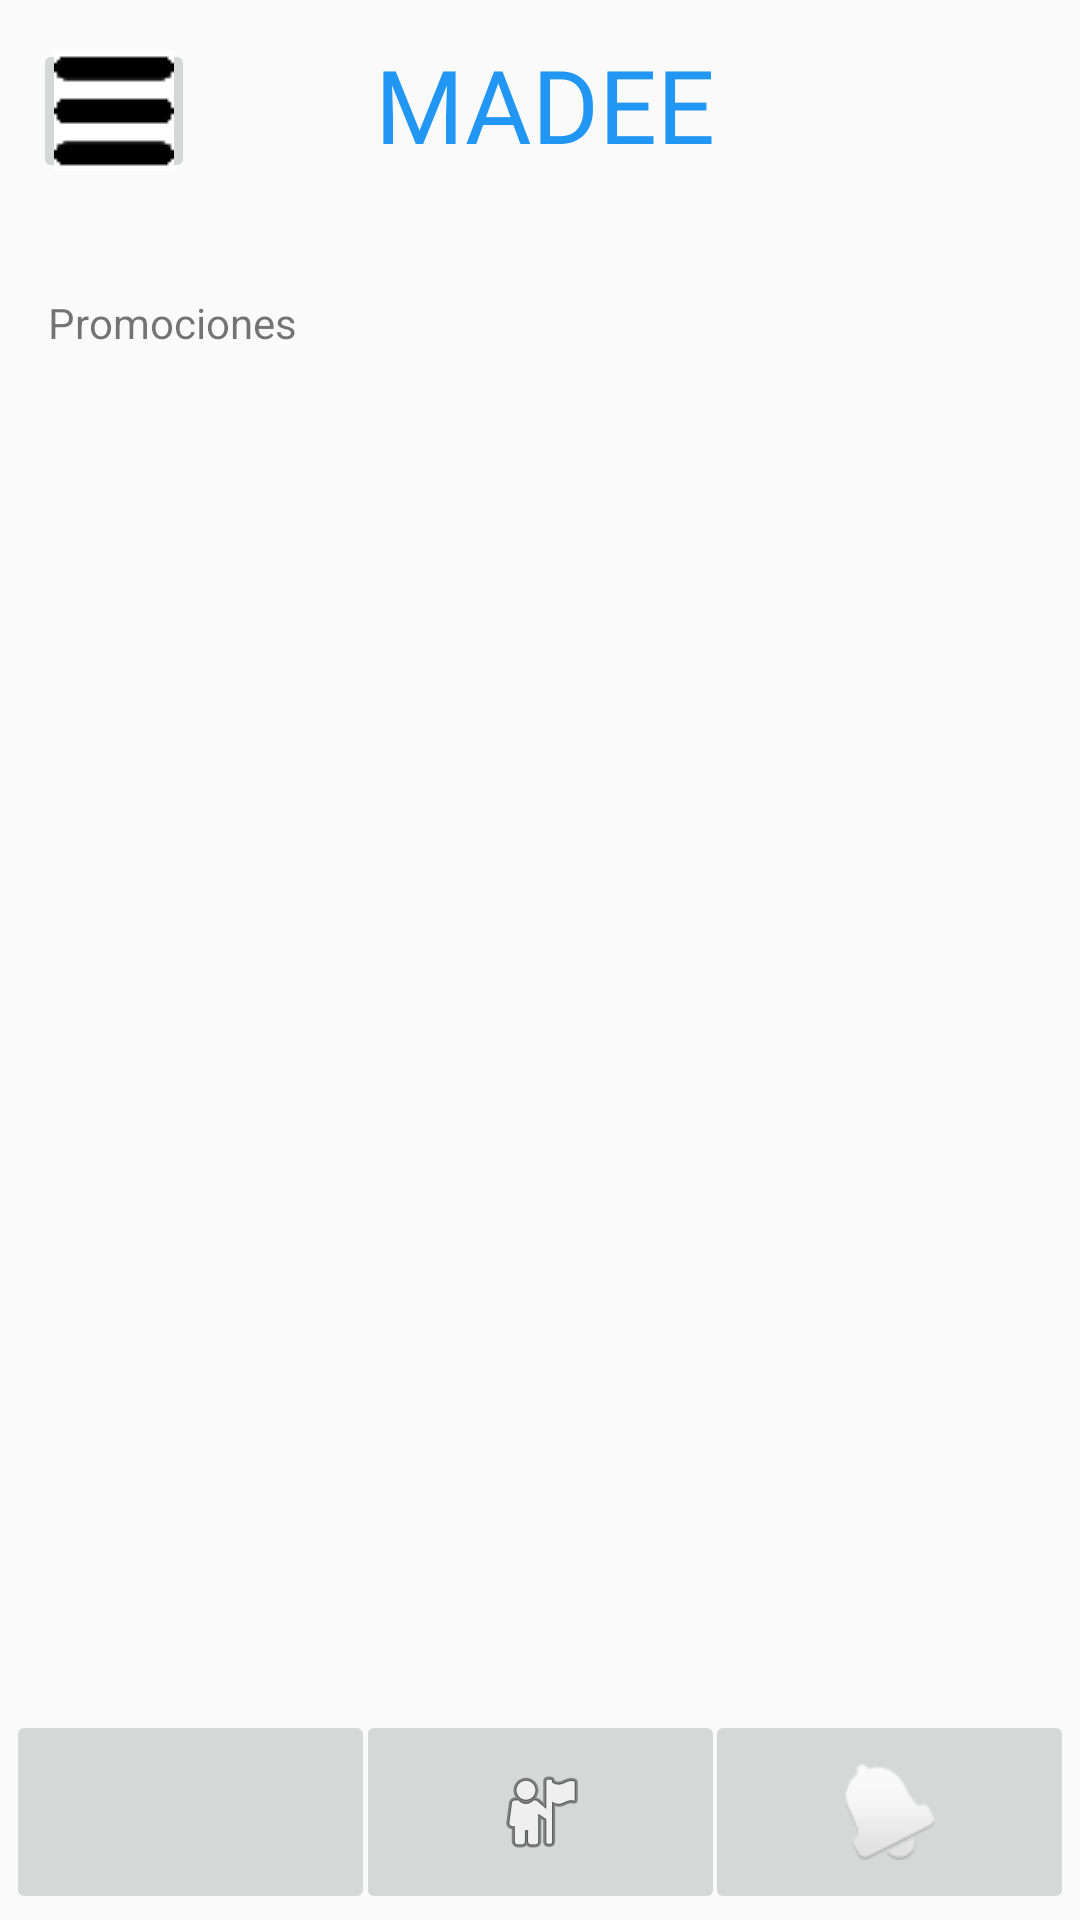

Locate icon controls on the screen. Image size 1080 × 1920, boxes as bbox=(x1, y1, x2, y2).
menu: bbox=(45, 56, 183, 166)
